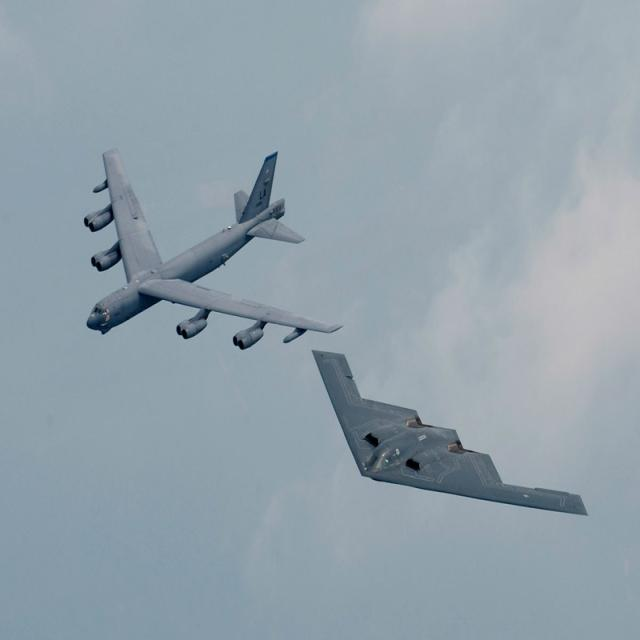B52: (66, 91, 369, 383), (300, 286, 612, 552)
